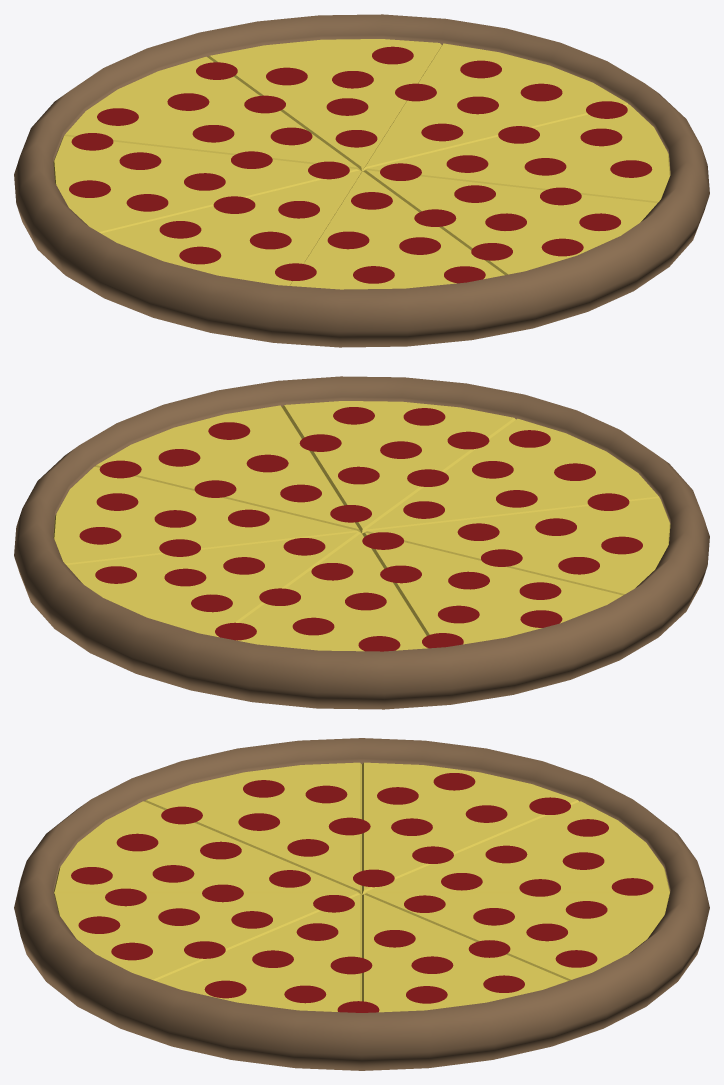
File: pizza.fbx
3 renders of one model, top to bottom at view 1: azimuth 30°, elevation 25°; view 2: azimuth 150°, elevation 25°; view 3: azimuth 270°, elevation 25°, orthographic.
Visible parts, largest first — view 1: pizza, pepperoni; view 2: pizza, pepperoni; view 3: pizza, pepperoni.
Boxes of the visible parts, x1,y1,x2,y2 form: pizza: (14, 14, 709, 347); pepperoni: (69, 46, 652, 283); pizza: (14, 376, 709, 709); pepperoni: (79, 407, 642, 651); pizza: (14, 738, 709, 1070); pepperoni: (71, 773, 653, 1012).
Bounding box in the file's own units: 204 × 16.42 × 204.
